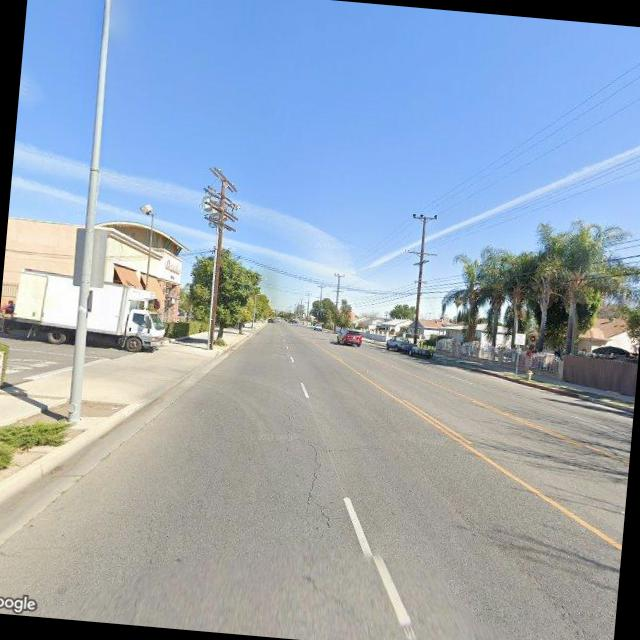pothole: (279, 408, 350, 530)
